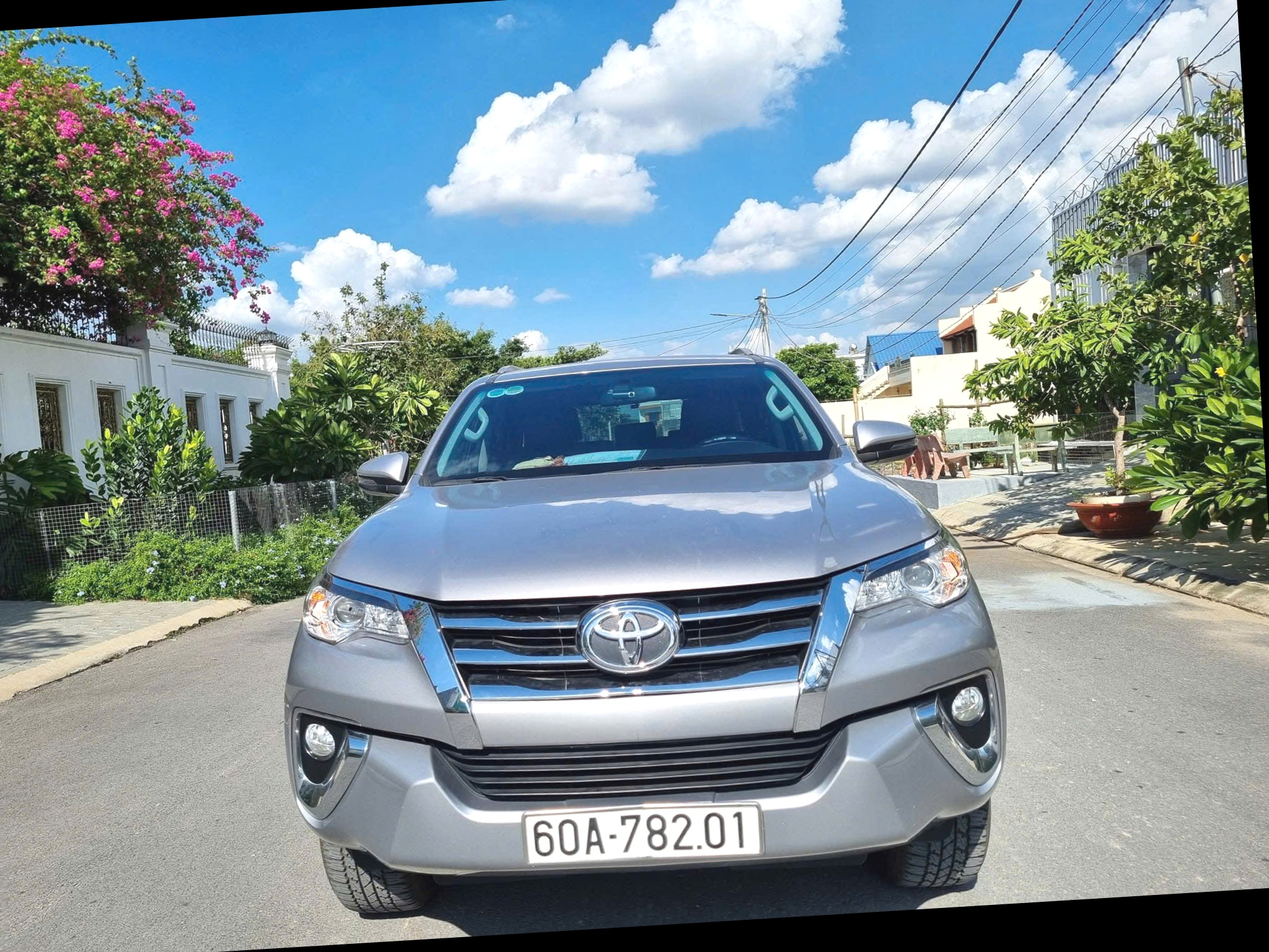Bien-so: (505, 846, 766, 918)
